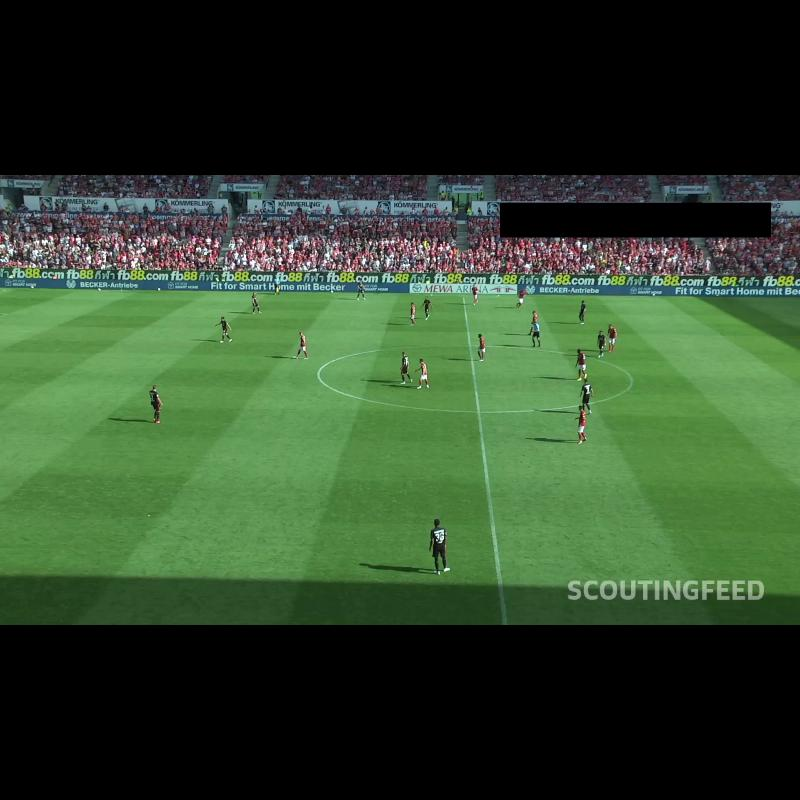crossing_player_zone: (0, 290, 167, 316), (774, 299, 800, 314)
pitch: (0, 291, 800, 625)
